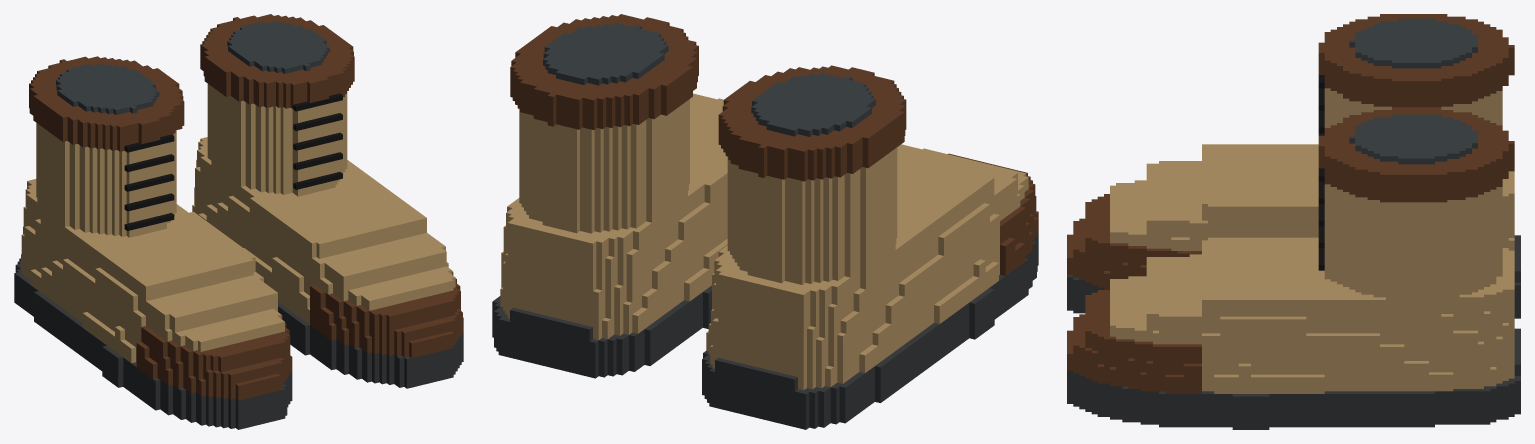
File: steel_toe_boots.glb
3 views of the same model, side by side, from view 1: azimuth 30°, elevation 25°; view 2: azimuth 150°, elevation 25°; view 3: azimuth 270°, elevation 25° (orthographic). The views are drawn at different scales.
Parts seen in each view (by area): view 1: steel_toe_boots:compound; view 2: steel_toe_boots:compound; view 3: steel_toe_boots:compound.
Boxes of the visible parts, x1=… form: steel_toe_boots:compound: x1=14, y1=14, x2=463, y2=429; steel_toe_boots:compound: x1=492, y1=14, x2=1038, y2=429; steel_toe_boots:compound: x1=1067, y1=14, x2=1520, y2=429.
Bounding box in the file's own units: 0.264 × 0.184 × 0.296.
